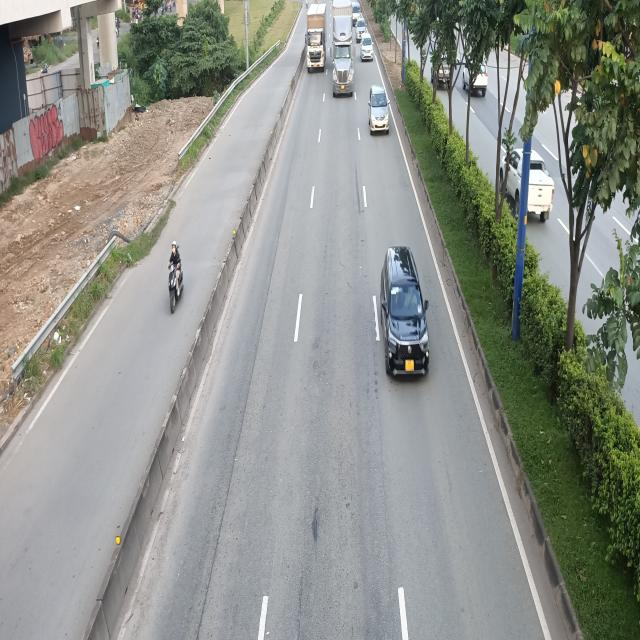car: (377, 248, 428, 380), (369, 85, 392, 133)
container: (332, 1, 357, 97)
truck: (306, 2, 328, 73)
